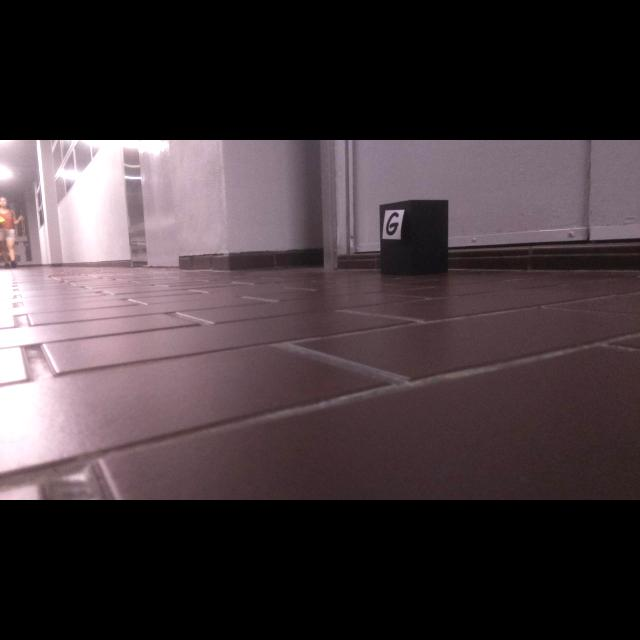G: (386, 212, 399, 235)
